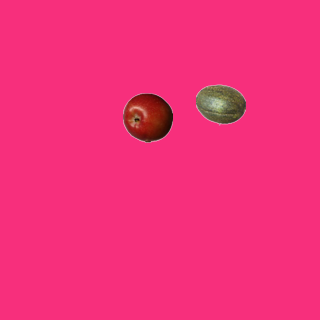Apple Braeburn: (122, 92, 172, 142)
Melon Piel de Sapo: (195, 79, 245, 129)
